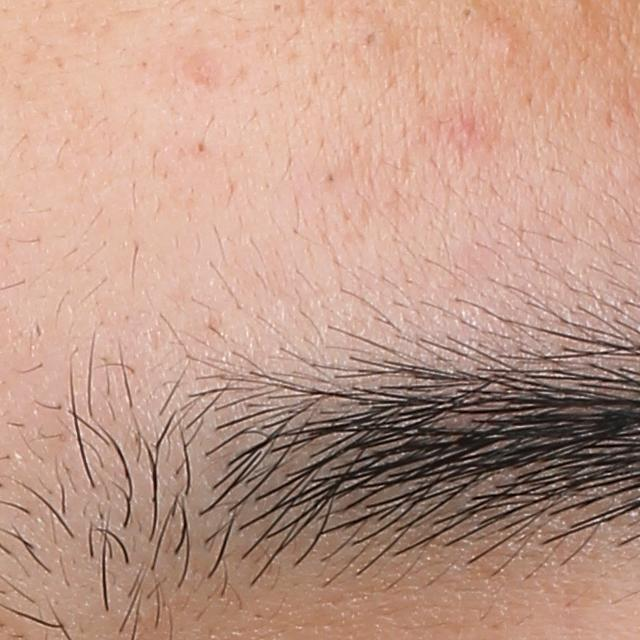atrophic_scar: (182, 45, 226, 95)
comedo: (490, 28, 523, 64), (356, 28, 380, 53), (267, 0, 286, 18), (458, 3, 475, 23), (195, 139, 209, 157)
